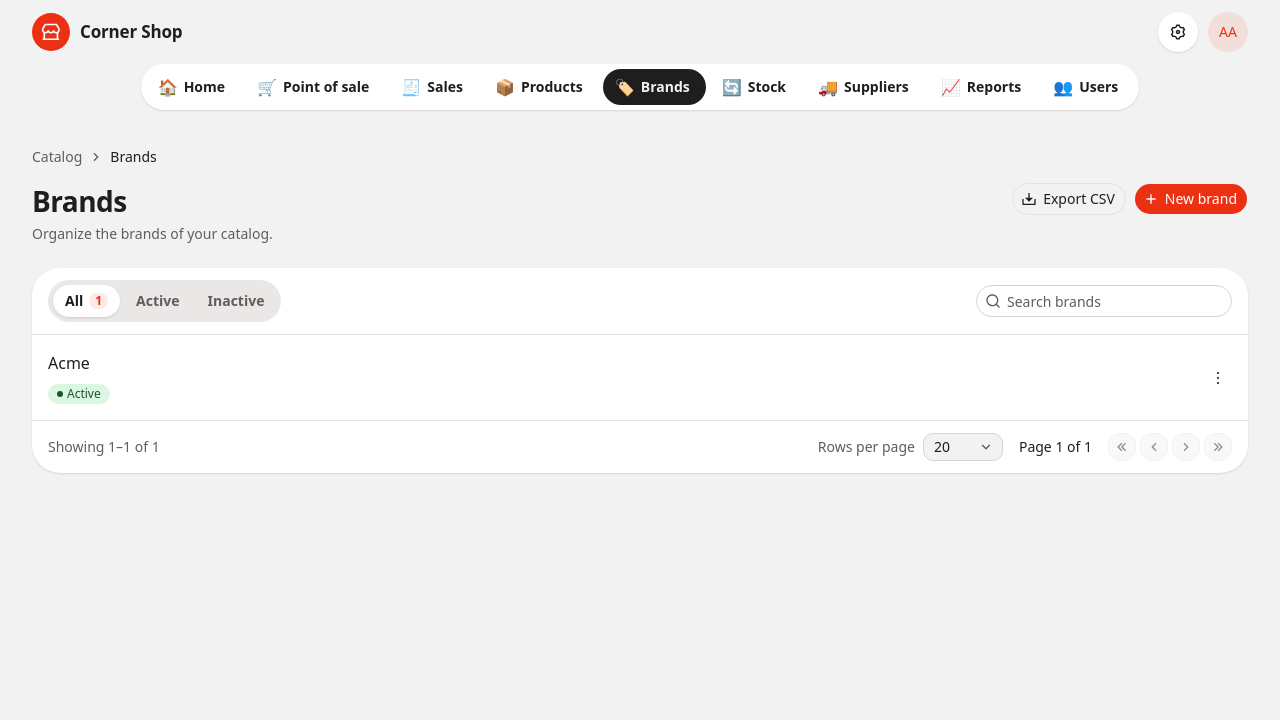
Test case: BrandListPage (compact) › opens the edit dialog from the name button
Click the button "Acme" at (79, 363), box [48, 351, 110, 375]
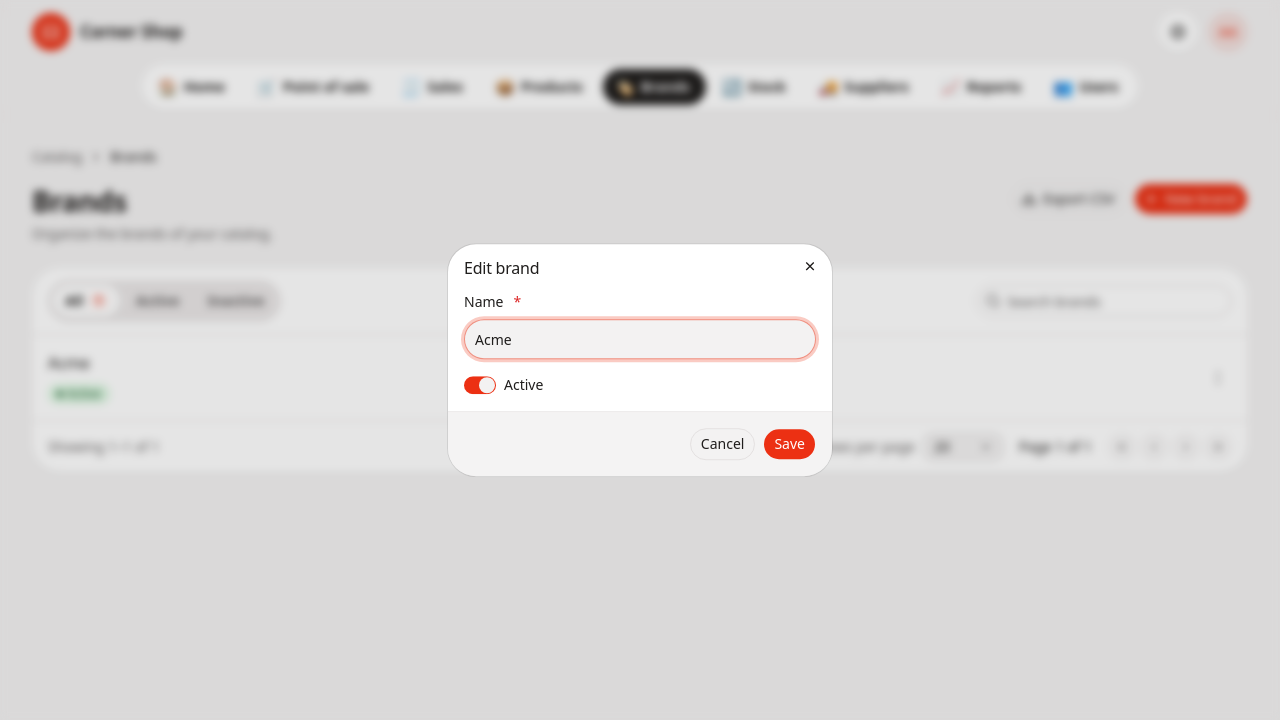
Result: the dialog is shown at [448, 244, 832, 476]
